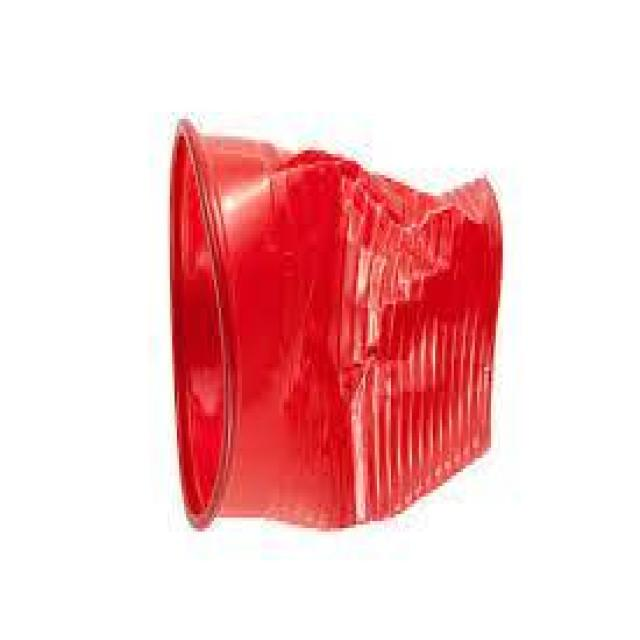inorganic: (165, 119, 505, 532)
